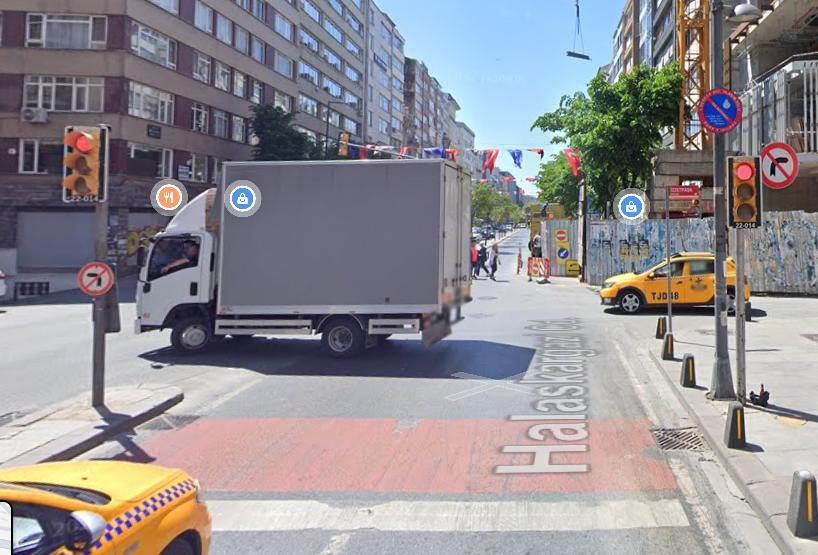leftturnsareforbidden: (78, 261, 113, 296)
nopark: (699, 86, 741, 135)
redlight: (63, 125, 110, 204), (726, 154, 761, 229)
rightturnsareforbidden: (762, 143, 796, 188)
